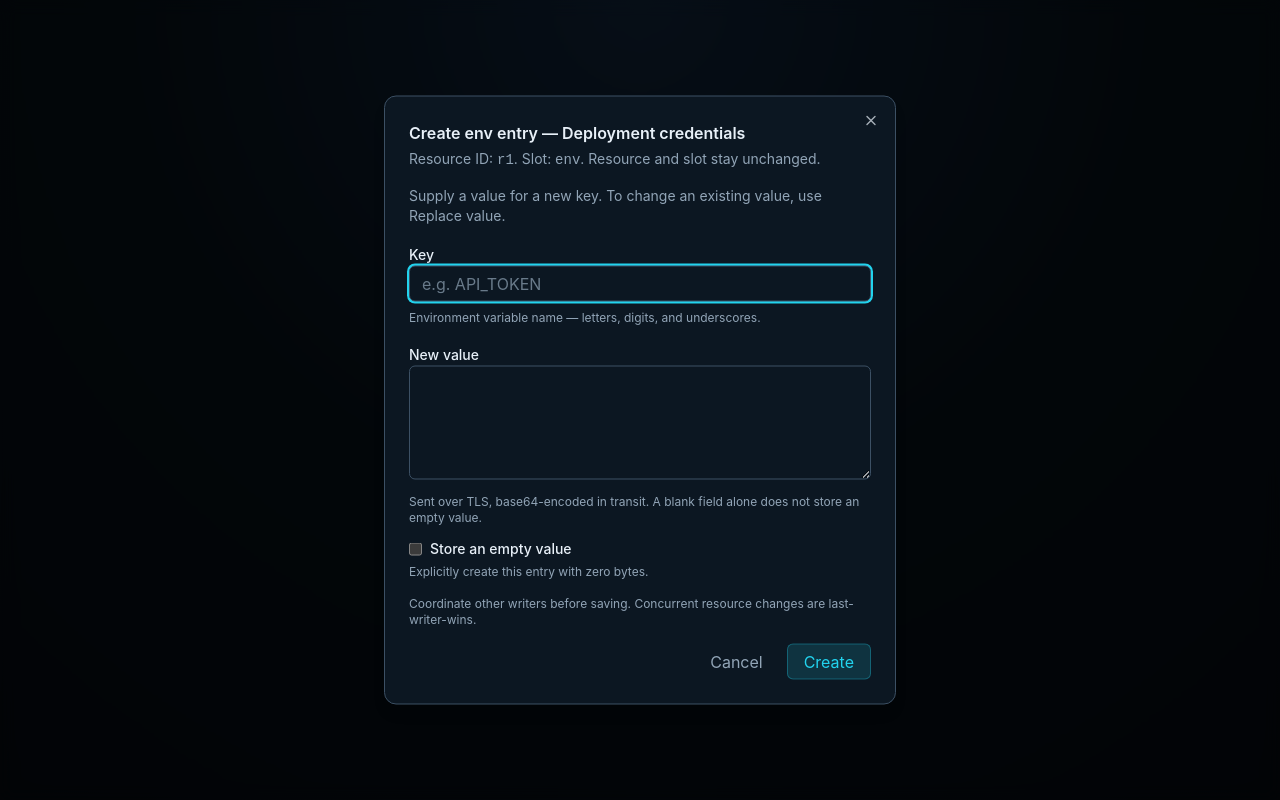
it: WriteSecretDialog › rejects a known duplicate Create key inline and directs to Replace value
This screenshot has width=1280, height=800.
Later steps or results of the test are not shown.
In the field labelled "Key": (640, 284) [409, 266, 871, 302], type "TAKEN"
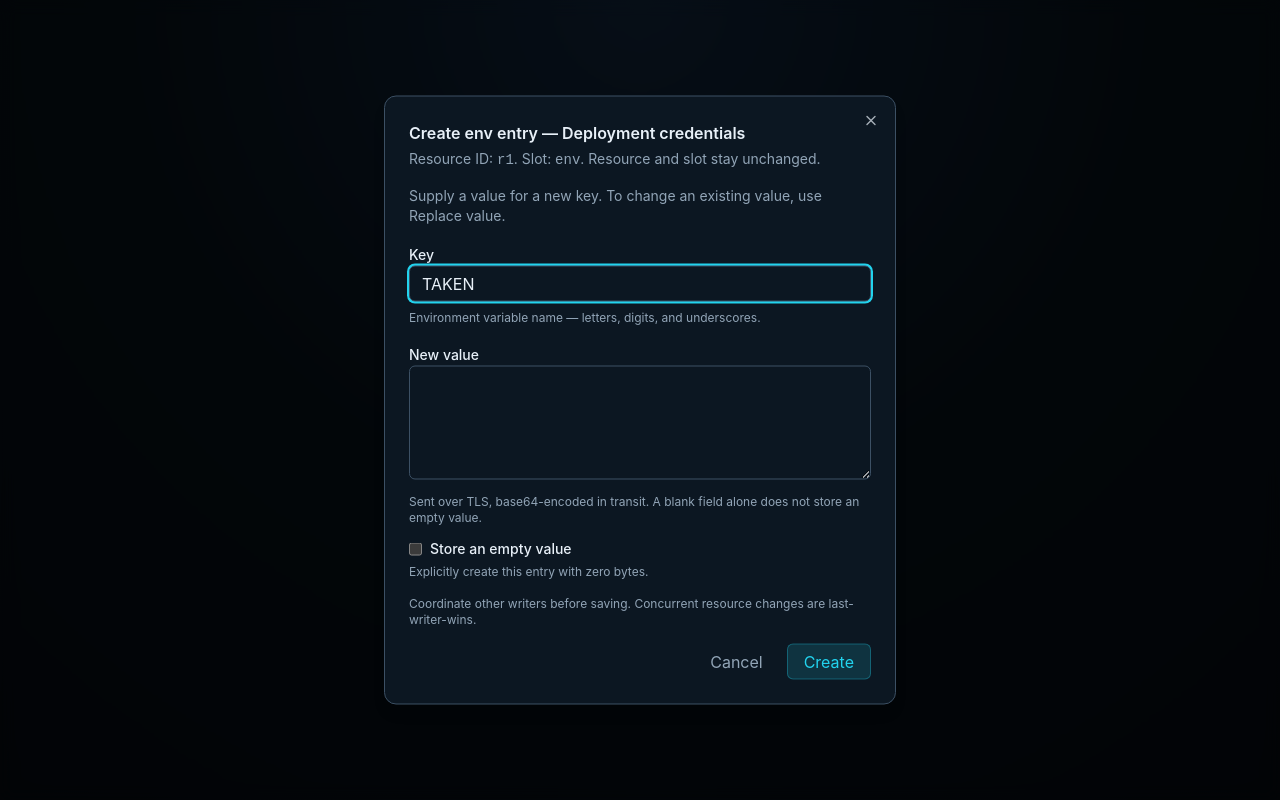
In the text box with test id "material-input": (640, 422) [409, 366, 871, 480], type "new input"
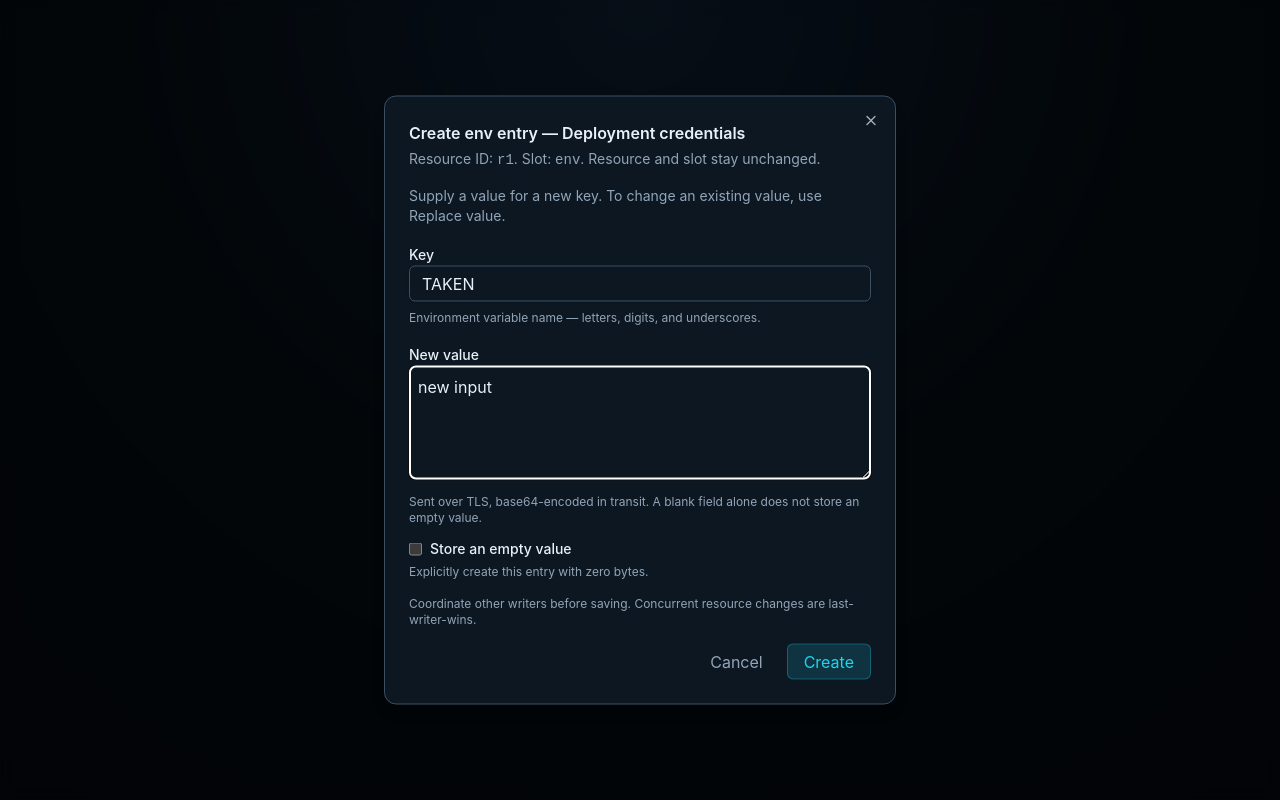
Click the button "Create": (829, 662) [787, 644, 871, 680]
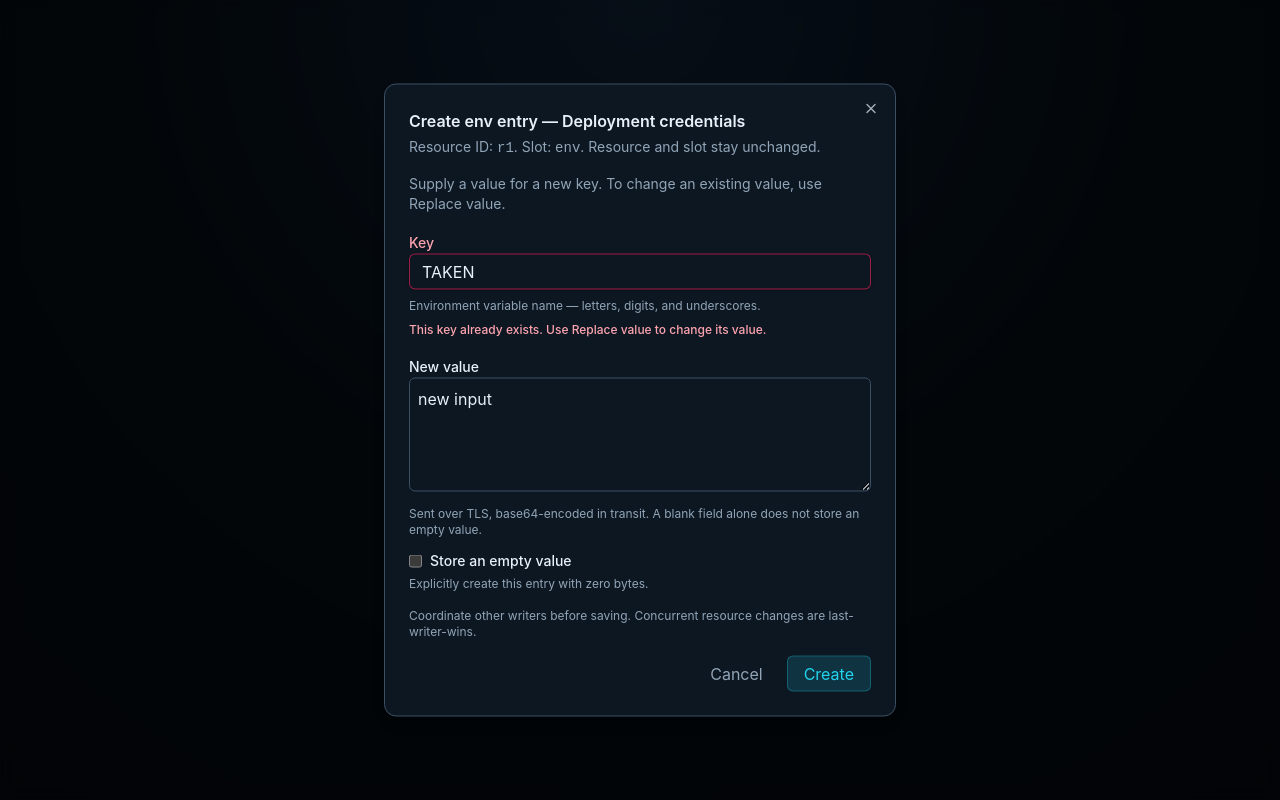
Result: the text "This key already exists. Use Replace value to change its value." is shown at [409, 322, 766, 336]
